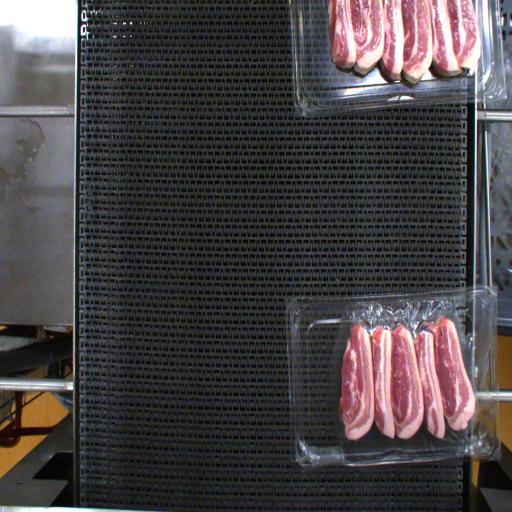unsealed: (331, 304, 483, 382)
